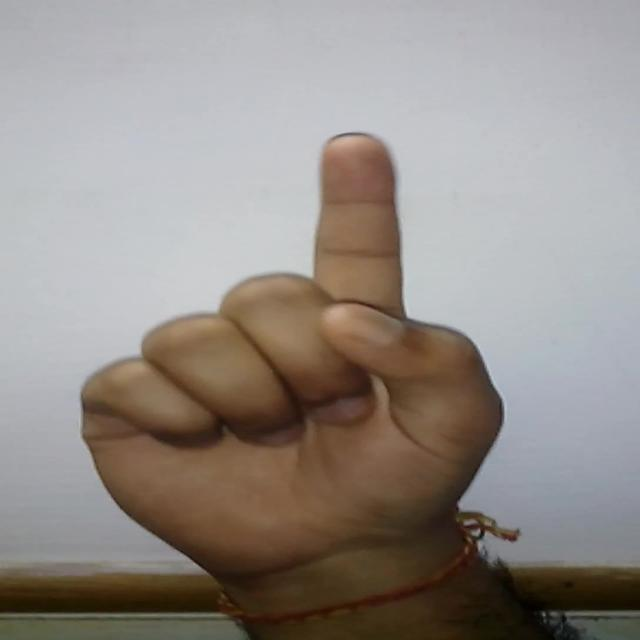I: (62, 121, 508, 577)
